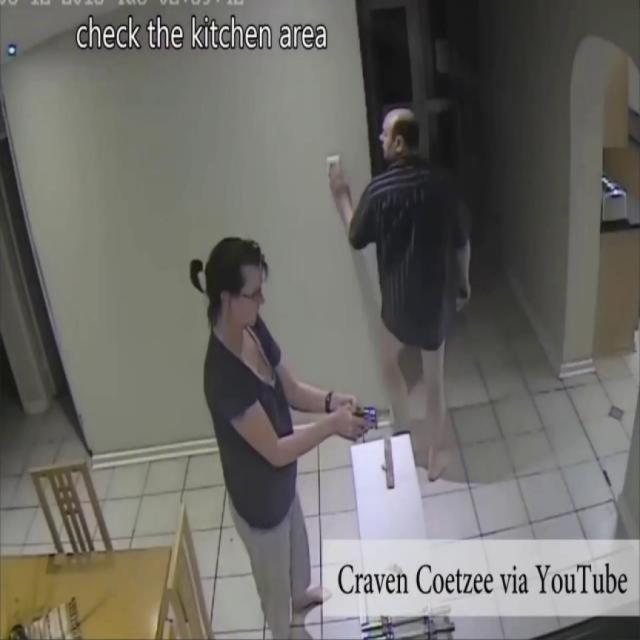pistol: (352, 402, 392, 442)
